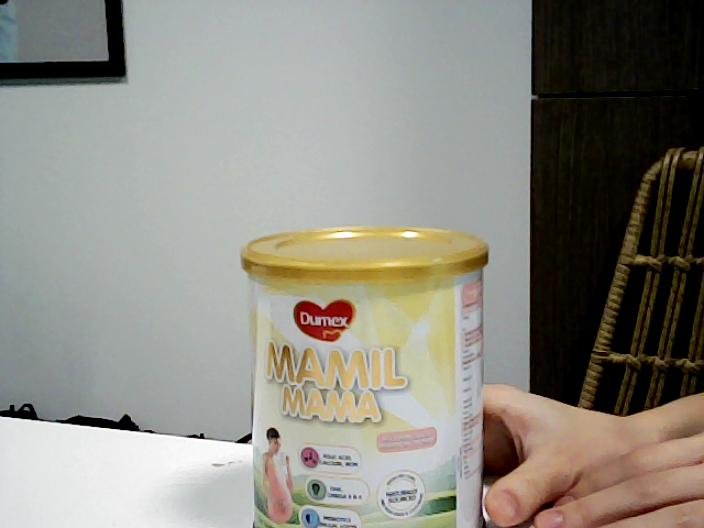MaternalMilkPowder_600-699g_NonHalal_NonHealthy: (238, 222, 492, 528)
